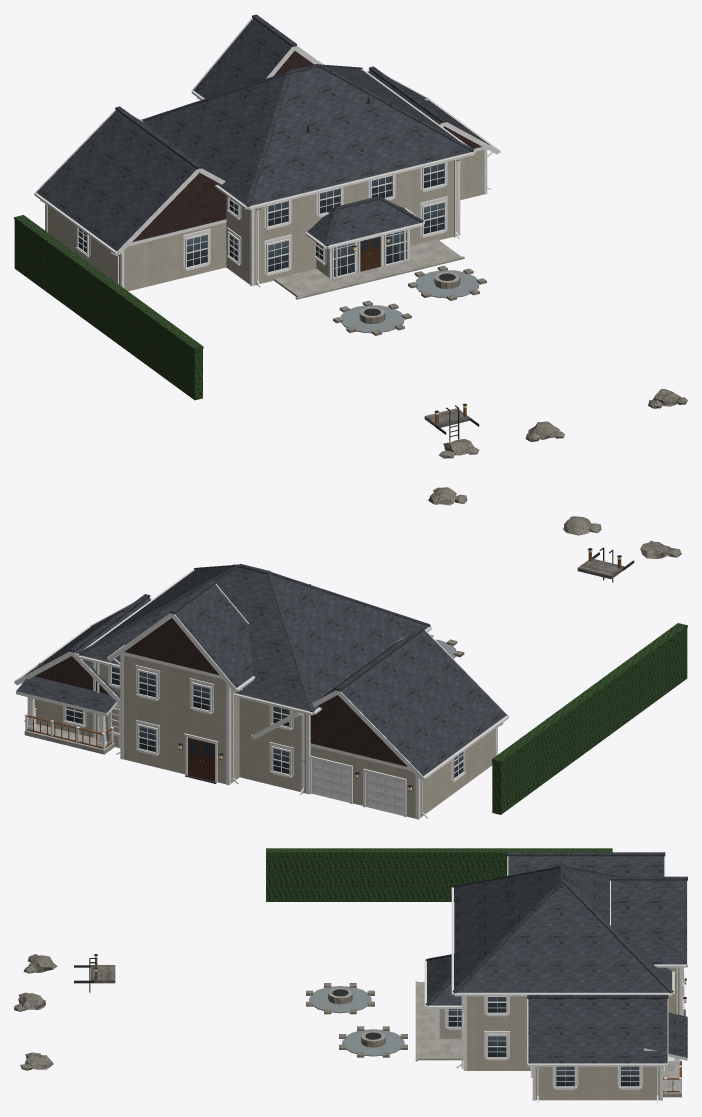
File: lot-8311.fbx
The picture shows the model from 3 angles, top to bottom: view 1: azimuth 30°, elevation 25°; view 2: azimuth 150°, elevation 25°; view 3: azimuth 270°, elevation 25°; orthographic projection. The views are drawn at different scales.
Parts seen in each view (by area): view 1: lot-8311_LOD0; view 2: lot-8311_LOD0; view 3: lot-8311_LOD0.
Part boxes in pixels (box(x1,y1,x2,y2)): lot-8311_LOD0: box(14, 14, 687, 458); lot-8311_LOD0: box(14, 487, 687, 819); lot-8311_LOD0: box(14, 848, 687, 1102).
Size of what is drawn, in the model's own units: 29.79 by 11.01 by 40.84.
2 materials, 2 textured.
